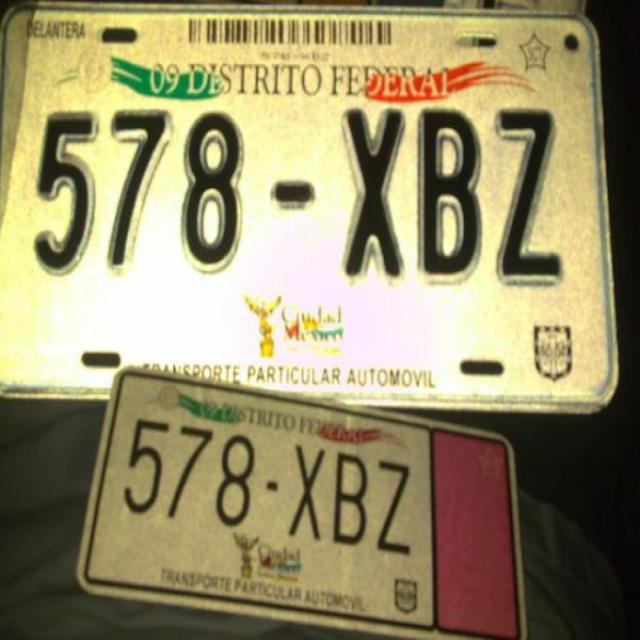placa: (22, 87, 590, 291)
